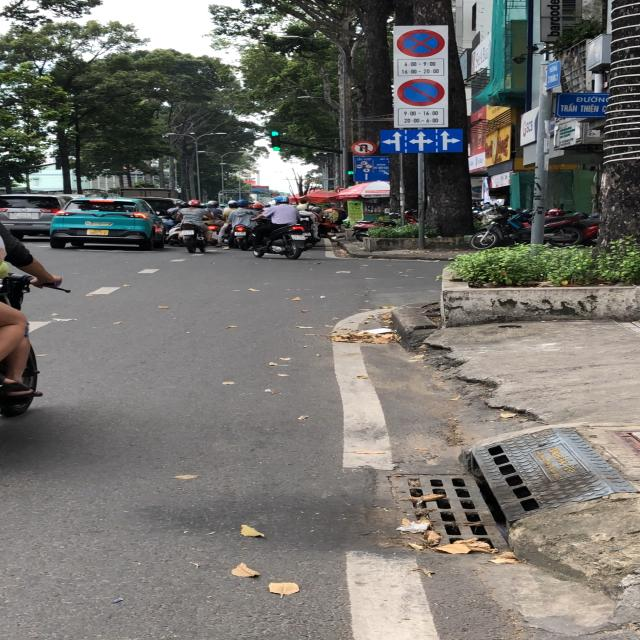Bien bao cam do xe: (395, 78, 446, 108)
Bien bao cam dung xe va do xe: (394, 27, 444, 57)
Bien bao cam quay dau xe: (349, 138, 379, 156)
